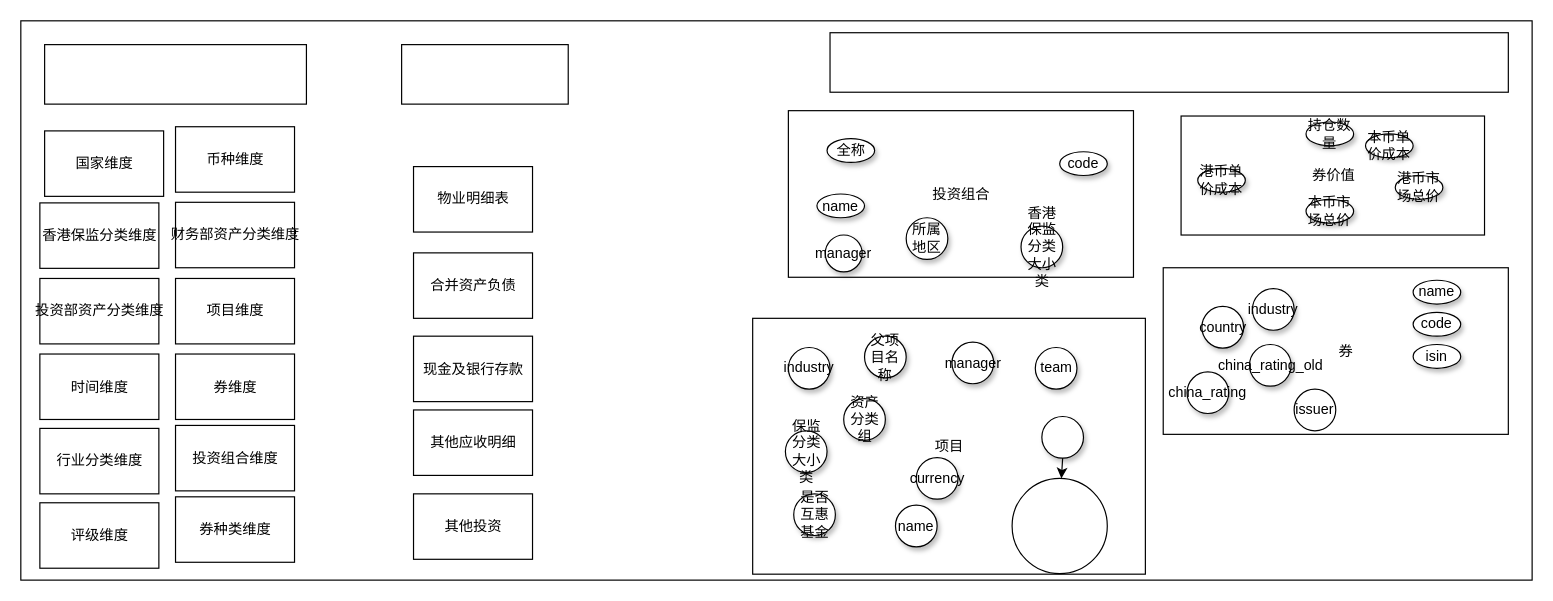
The diagram is 1553 pixels wide and 601 high, and some of its shapes have lost their labels. Here are the shapes that lost their labels. From the top down, the centre of each, then its label:
At (174,73): "维度表（自己维护）".
At (484,73): "财务".
At (1168,62): "hip数据源".
At (1063,438): "风险地区".
At (1059,525): "是否发达国家，境内/境外，所属地区（洲）".
